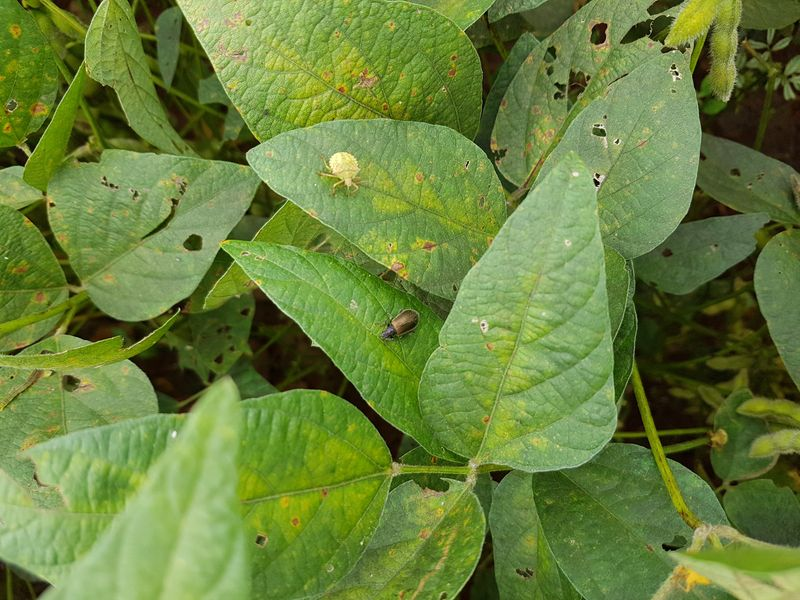Euschistus_heros_ninfa: (311, 147, 370, 202), (704, 423, 731, 452)
Lagria_villosa: (370, 302, 425, 353)
